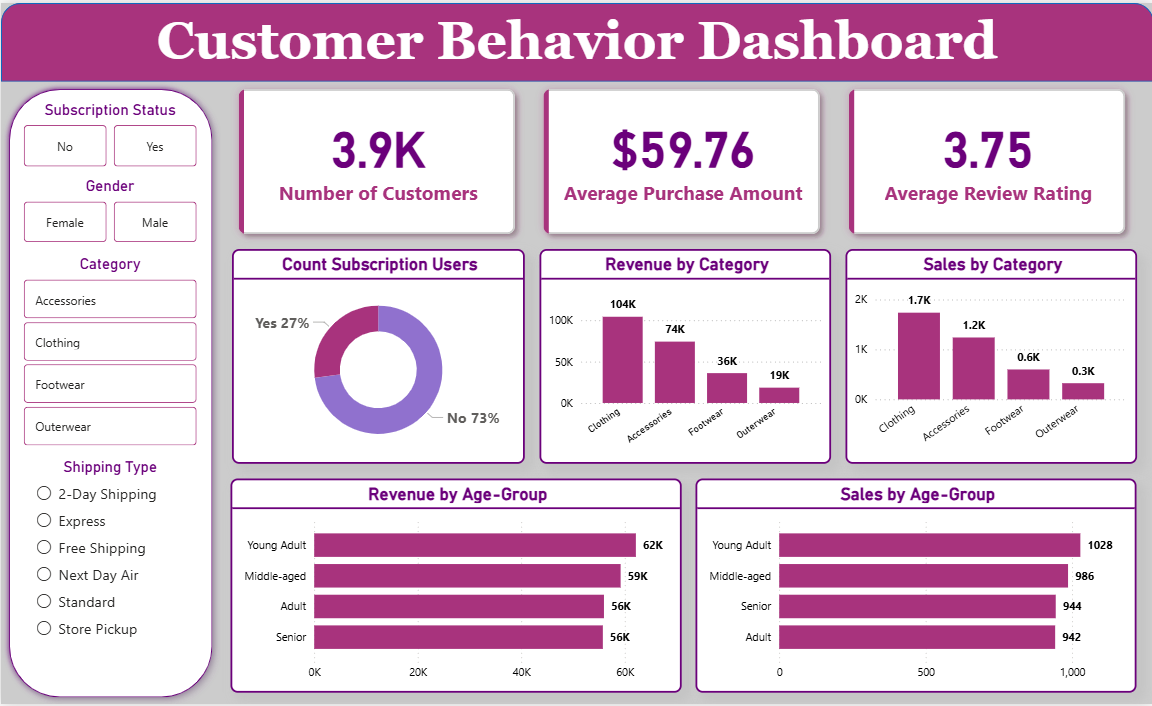

Layout of this report page (visuals, bound fields, positions):
{"tool":"powerbi","page":{"name":"Page 1","canvas":[1280,780],"ordinal":0},"visuals":[{"type":"cardVisual","fields":{"Data":["mydb customer_shopping.Number of Customers","mydb customer_shopping.Average Purchase Amount","mydb customer_shopping.Average Review Rating"]},"box":[246.2,78.8,1020,195],"z":0},{"type":"shape","box":[0,0,1280.8,87.4],"z":1000},{"type":"textbox","box":[0,4,1280,80],"z":2000},{"type":"donutChart","title":"Count Subscription Users","fields":{"Category":["mydb customer_shopping.subscription_status"],"Y":["Count(mydb customer_shopping.customer_id)"]},"box":[256.2,273.8,325,238.8],"z":3000},{"type":"clusteredColumnChart","title":"Revenue by Category","fields":{"Y":["Sum(mydb customer_shopping.purchase_amount)"],"Category":["mydb customer_shopping.category"]},"box":[597.5,273.8,323.8,238.8],"z":4000},{"type":"clusteredColumnChart","title":"Sales by Category","fields":{"Y":["Count(mydb customer_shopping.customer_id)"],"Category":["mydb customer_shopping.category"]},"box":[937.5,273.8,323.8,238.8],"z":5000},{"type":"shape","box":[0,86.2,243.8,693.8],"z":6000},{"type":"advancedSlicerVisual","fields":{"Values":["mydb customer_shopping.subscription_status"]},"box":[20,107.5,202.5,78.8],"z":7000},{"type":"advancedSlicerVisual","fields":{"Values":["mydb customer_shopping.gender"]},"box":[20,193.3,202.2,77.8],"z":8000},{"type":"advancedSlicerVisual","fields":{"Values":["mydb customer_shopping.category"]},"box":[20,279.2,202.5,220],"z":9000},{"type":"listSlicer","fields":{"Values":["mydb customer_shopping.shipping_type"]},"box":[20,505,202.5,275],"z":10000},{"type":"clusteredBarChart","title":"Revenue by Age-Group","fields":{"Y":["Sum(mydb customer_shopping.purchase_amount)"],"Category":["mydb customer_shopping.age_group"]},"box":[255.6,527.8,501.1,237.8],"z":11000},{"type":"clusteredBarChart","title":"Sales by Age-Group","fields":{"Category":["mydb customer_shopping.age_group"],"Y":["Count(mydb customer_shopping.customer_id)"]},"box":[771.1,527.8,490,237.8],"z":12000}]}

Visuals, with their boxes in screenshot pixels (x1, y1, x2, y2), scaled from the page's 1280x780 canvas onto the 1152x706 screenshot:
cardVisual - mydb customer_shopping.Number of Customers x mydb customer_shopping.Average Purchase Amount: box=[222, 71, 1140, 248]
shape: box=[0, 0, 1151, 79]
textbox: box=[0, 4, 1151, 76]
"Count Subscription Users" donutChart: box=[231, 248, 523, 464]
"Revenue by Category" clusteredColumnChart: box=[538, 248, 829, 464]
"Sales by Category" clusteredColumnChart: box=[844, 248, 1135, 464]
shape: box=[0, 78, 219, 705]
advancedSlicerVisual - mydb customer_shopping.subscription_status: box=[18, 97, 200, 169]
advancedSlicerVisual - mydb customer_shopping.gender: box=[18, 175, 200, 245]
advancedSlicerVisual - mydb customer_shopping.category: box=[18, 253, 200, 452]
listSlicer - mydb customer_shopping.shipping_type: box=[18, 457, 200, 705]
"Revenue by Age-Group" clusteredBarChart: box=[230, 478, 681, 693]
"Sales by Age-Group" clusteredBarChart: box=[694, 478, 1135, 693]
